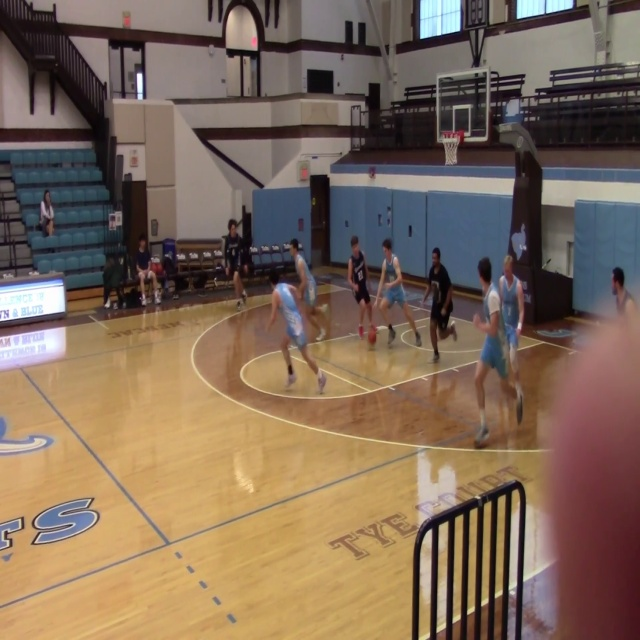Basketball: (473, 313, 493, 334), (368, 331, 376, 343)
